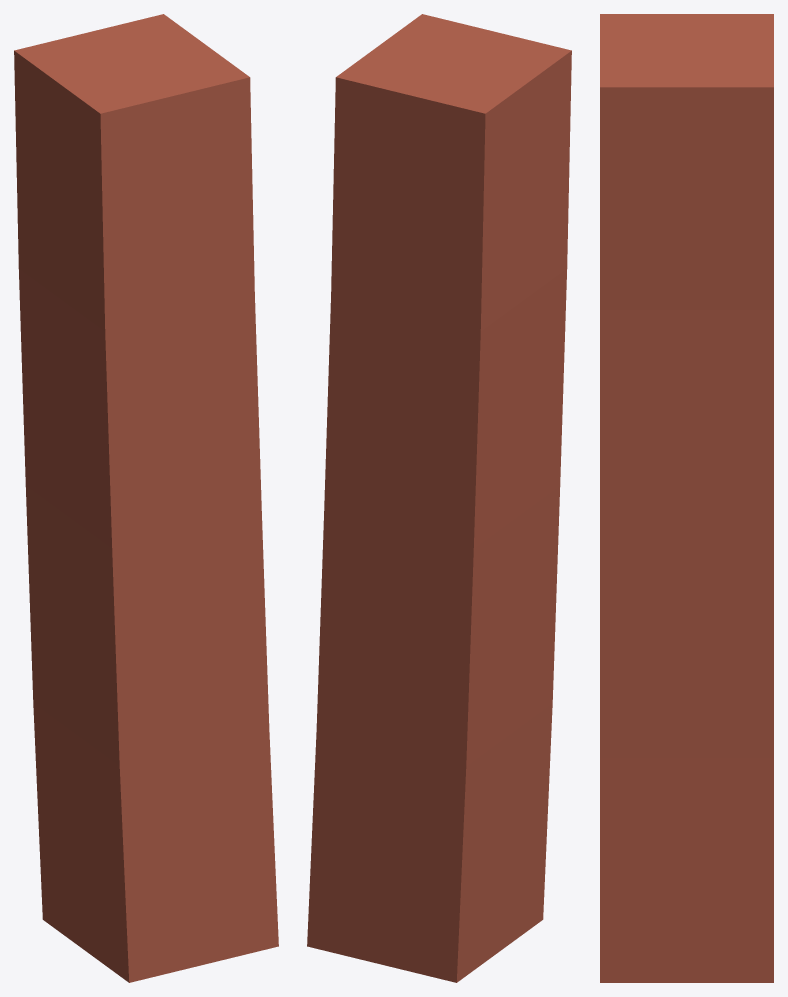
The model's file is wood_1b.fbx.
The picture shows the model from 3 angles, left to right: view 1: azimuth 30°, elevation 25°; view 2: azimuth 150°, elevation 25°; view 3: azimuth 270°, elevation 25°; orthographic projection.
Parts seen in each view (by area): view 1: wood_1b; view 2: wood_1b; view 3: wood_1b.
Part boxes in pixels (box(x1,y1,x2,y2)): wood_1b: box(14, 14, 278, 982); wood_1b: box(307, 14, 571, 982); wood_1b: box(600, 14, 773, 982).
Bounding box in the file's own units: 44.19 × 207 × 37.07.
